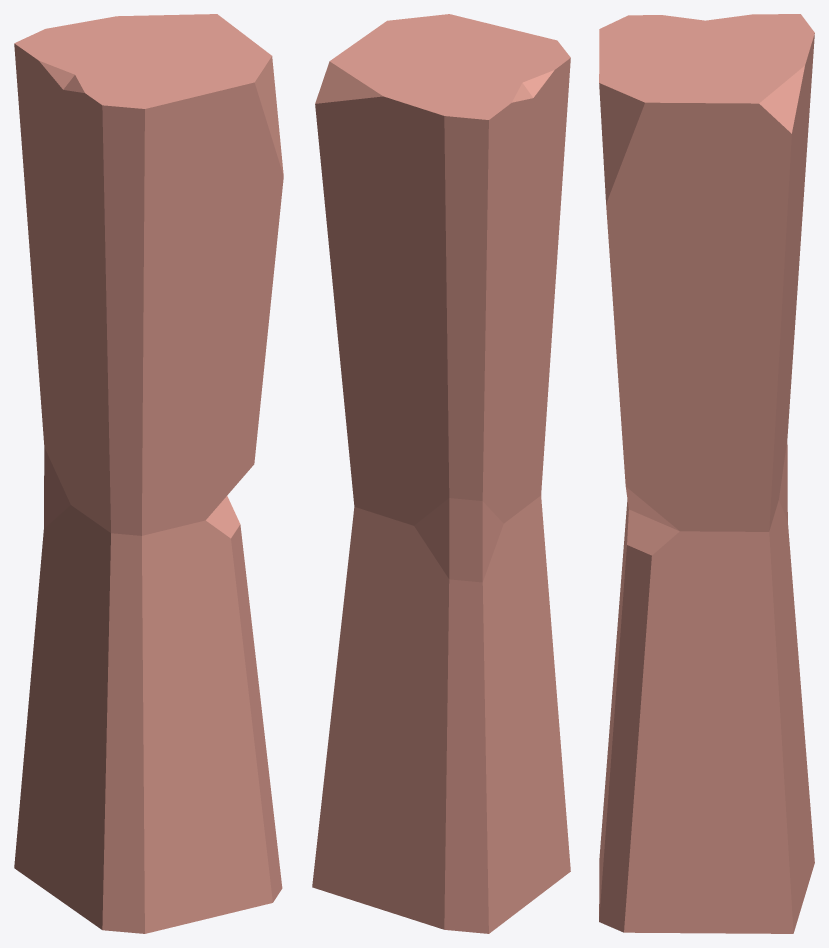
The model's file is Plane_034_Vlad.fbx.
3 renders of one model, left to right at view 1: azimuth 30°, elevation 25°; view 2: azimuth 150°, elevation 25°; view 3: azimuth 270°, elevation 25°, orthographic. The views are drawn at different scales.
Visible parts, largest first — view 1: Plane.034; view 2: Plane.034; view 3: Plane.034.
Boxes of the visible parts, x1,y1,x2,y2 form: Plane.034: [14, 14, 283, 933]; Plane.034: [312, 14, 570, 933]; Plane.034: [599, 14, 814, 933].
Bounding box in the file's own units: 93.55 × 403 × 95.01.
